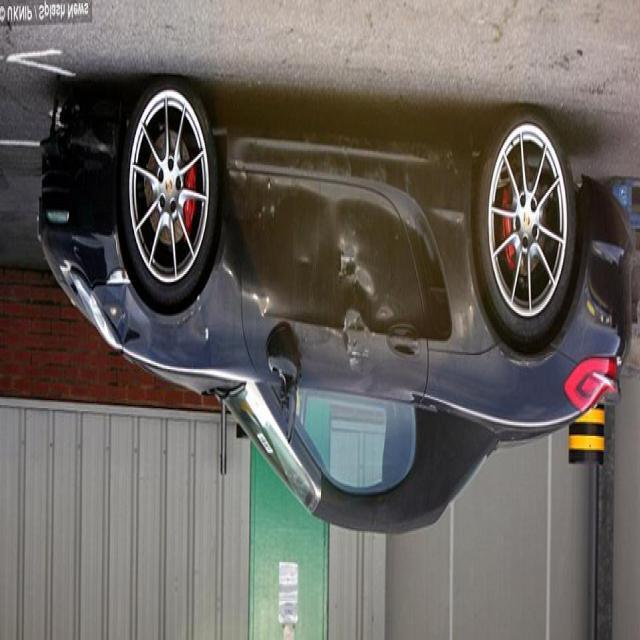dent: (323, 218, 390, 397)
